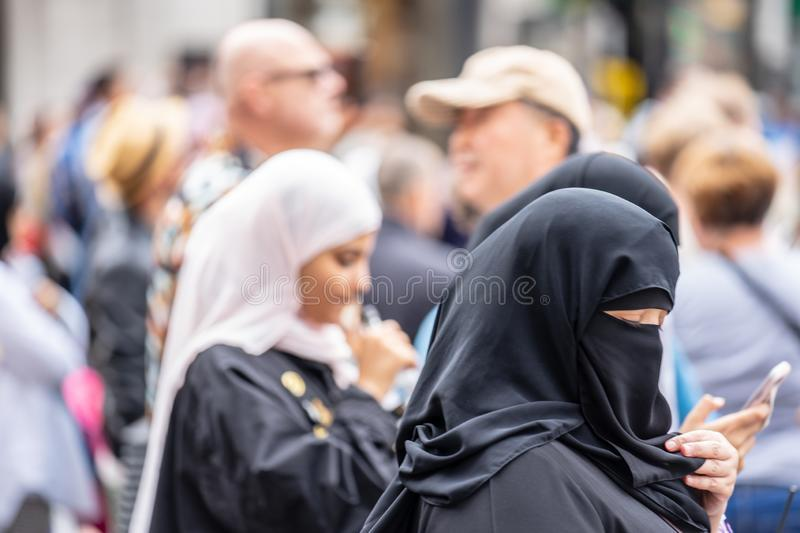No Mask: (572, 234, 702, 467), (415, 92, 523, 239), (257, 34, 370, 172), (287, 212, 391, 347)
